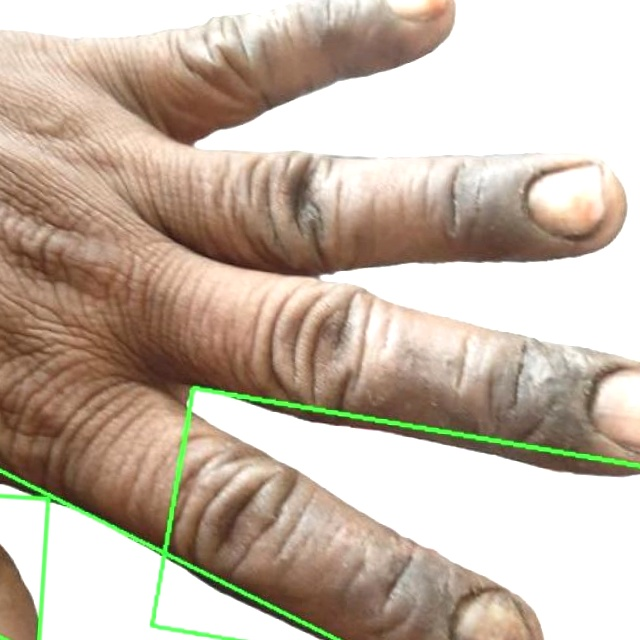Eczema: (150, 388, 639, 639), (0, 471, 335, 639)
